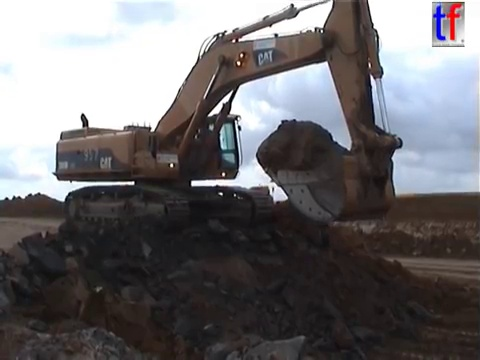excavator: (49, 1, 405, 240)
